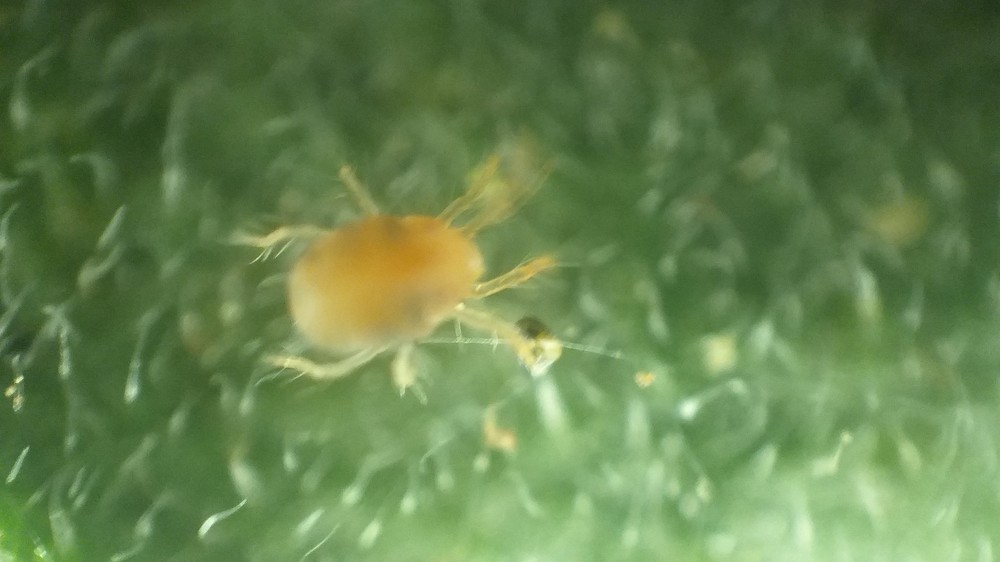Aracnido Rojo: (216, 151, 614, 415)
